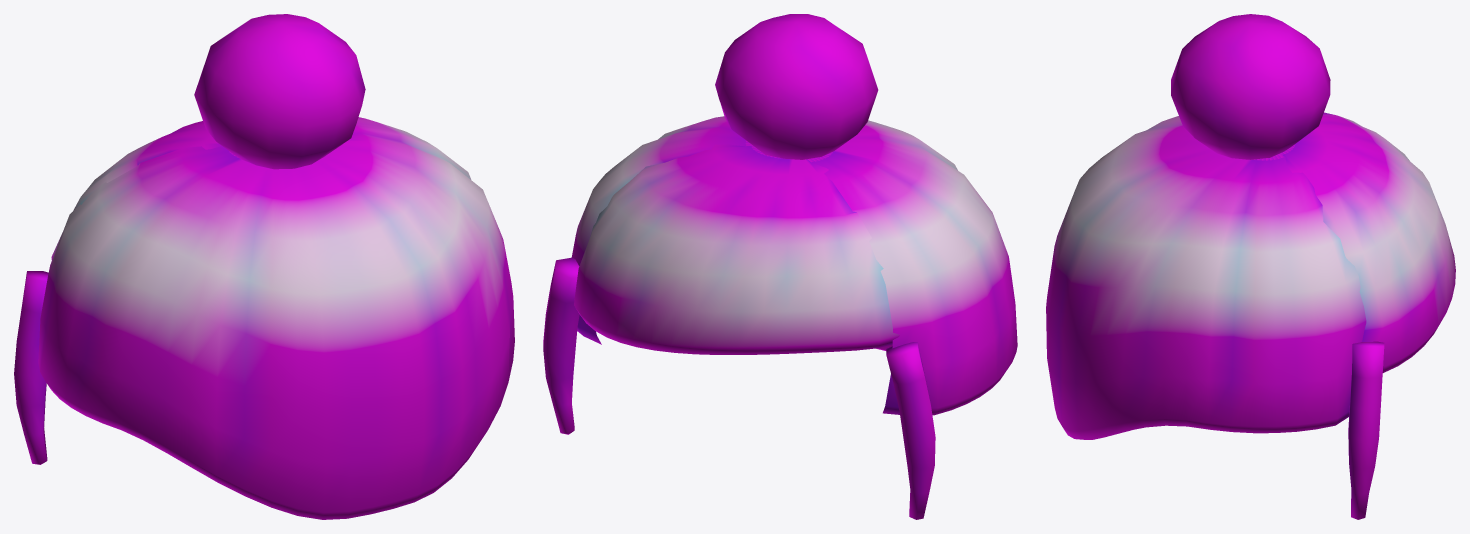
The model's file is bun_low.glb.
3 views of the same model, side by side, from view 1: azimuth 30°, elevation 25°; view 2: azimuth 150°, elevation 25°; view 3: azimuth 270°, elevation 25° (orthographic). The views are drawn at different scales.
Visible parts, largest first — view 1: bun; view 2: bun; view 3: bun.
Part boxes in pixels (box(x1,y1,x2,y2)): bun: box(14, 14, 514, 519); bun: box(543, 14, 1017, 519); bun: box(1046, 14, 1455, 519).
Bounding box in the file's own units: 0.9054 × 0.8895 × 0.8011.
